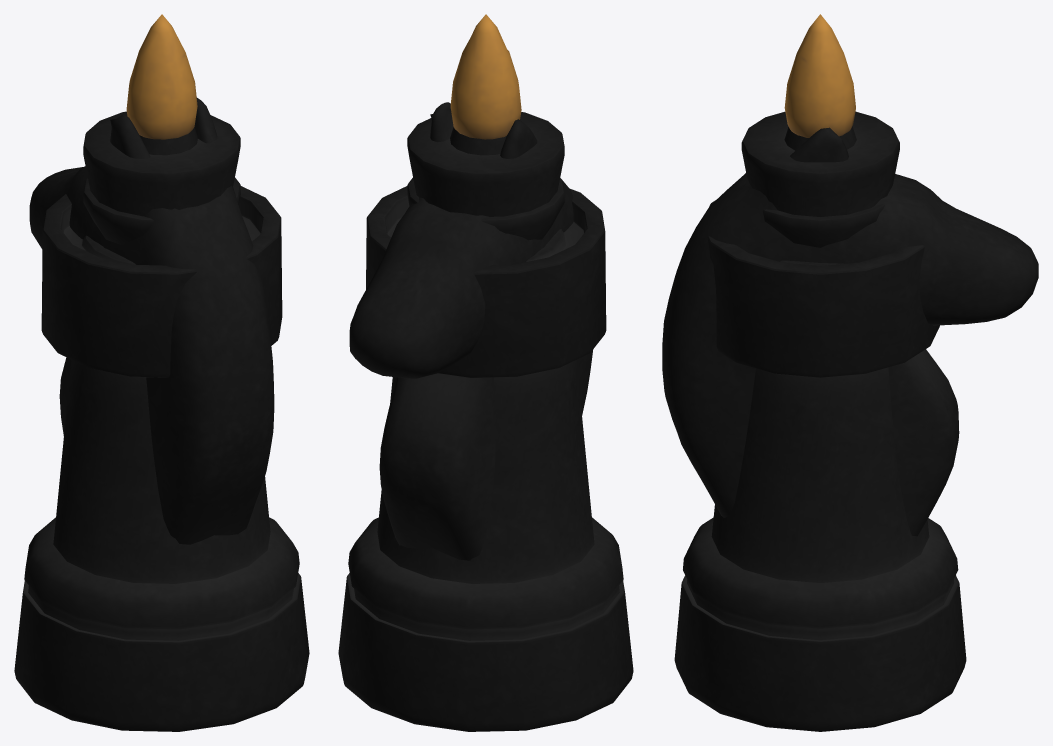
The model's file is pieces_day_4.fbx.
The picture shows the model from 3 angles, left to right: view 1: azimuth 30°, elevation 25°; view 2: azimuth 150°, elevation 25°; view 3: azimuth 270°, elevation 25°; orthographic projection.
Parts seen in each view (by area): view 1: knight_black_day_4, rook_black_day_4, king_black_day_4, queen_black_day_4, bishop_black_day_4; view 2: knight_black_day_4, rook_black_day_4, king_black_day_4, queen_black_day_4, bishop_black_day_4; view 3: knight_black_day_4, rook_black_day_4, king_black_day_4, queen_black_day_4.
Part boxes in pixels (x1,y1,x2,y2): knight_black_day_4: (14, 97, 309, 731); rook_black_day_4: (41, 186, 282, 583); king_black_day_4: (83, 14, 240, 240); queen_black_day_4: (83, 177, 240, 245); bishop_black_day_4: (103, 127, 197, 250); knight_black_day_4: (338, 102, 633, 731); rook_black_day_4: (366, 186, 606, 583); king_black_day_4: (407, 14, 564, 239); queen_black_day_4: (407, 178, 564, 240); bishop_black_day_4: (450, 127, 546, 248); knight_black_day_4: (662, 127, 1038, 731); rook_black_day_4: (707, 200, 939, 582); king_black_day_4: (741, 14, 899, 216); queen_black_day_4: (763, 204, 884, 247).
Size of the model in its own units: 0.0932 by 0.1174 by 0.2258.
